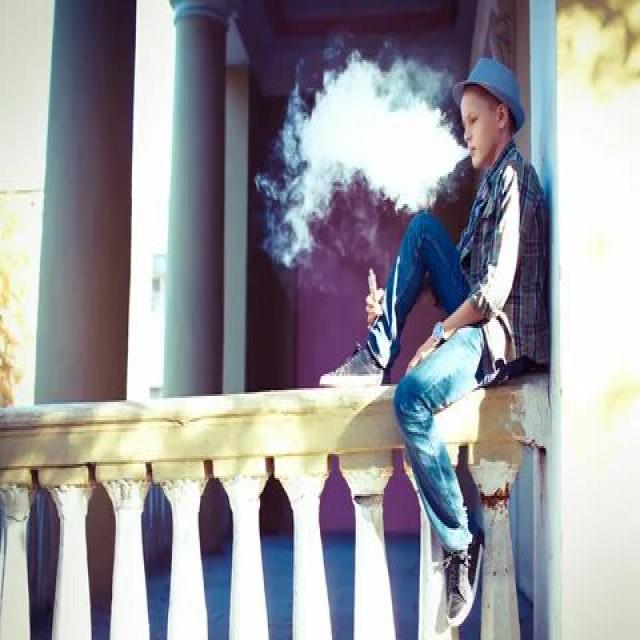cigarette: (364, 260, 388, 328)
